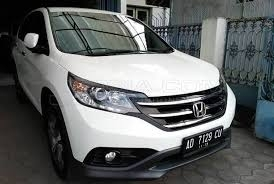plate: (180, 128, 224, 151)
